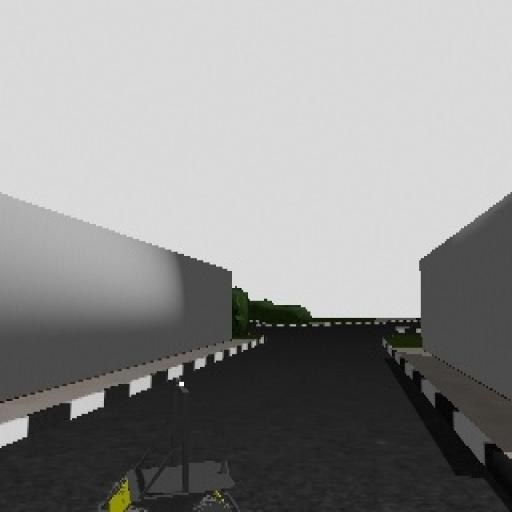huskya200: (89, 383, 251, 512)
